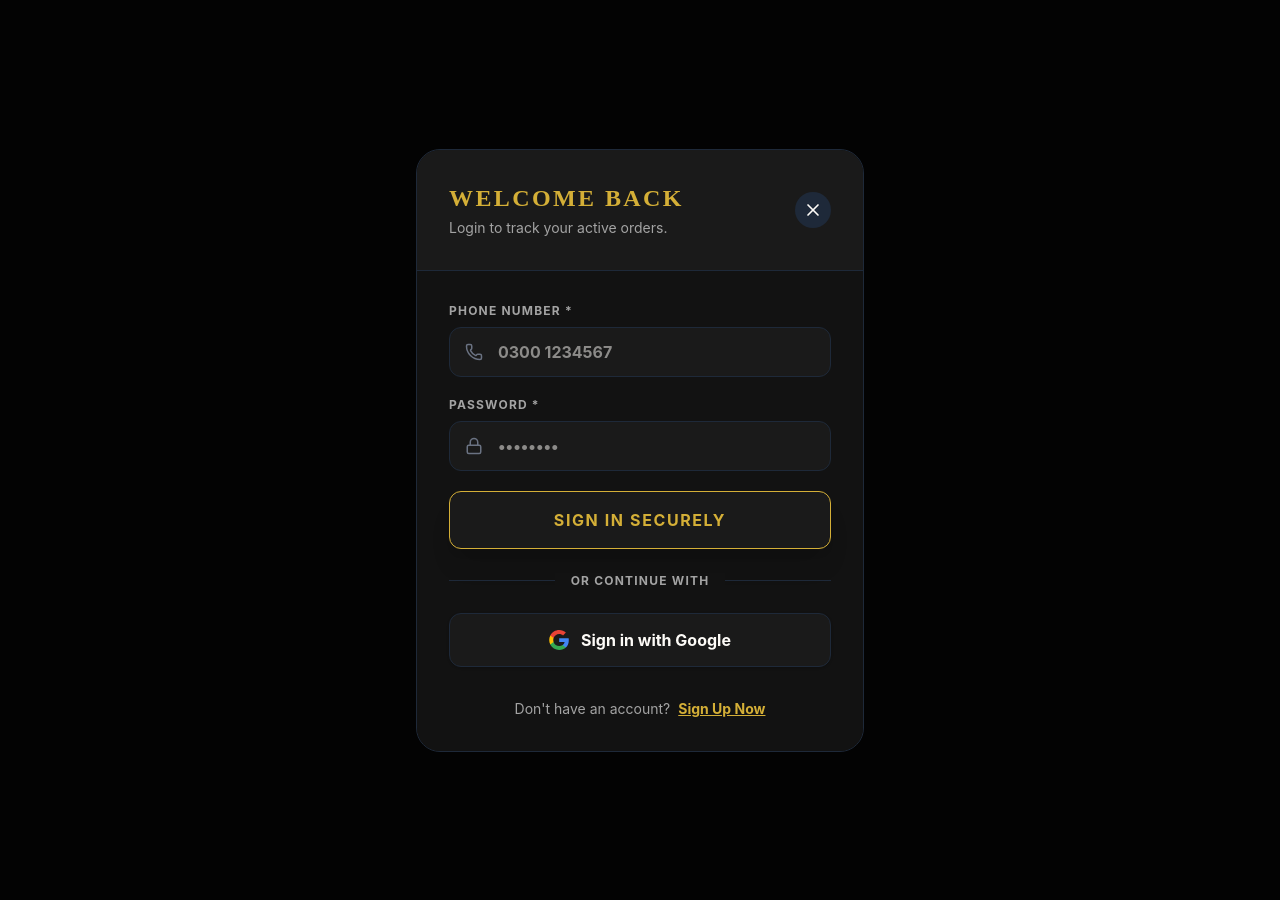
Test: AuthModal Component › switches between Login and Register modes
Expected: the heading "Welcome Back" is shown, [449,182,684,214]
# Click the toggle button
Click the button "Sign Up Now". click: (722, 708)
box: [678,698,766,718]
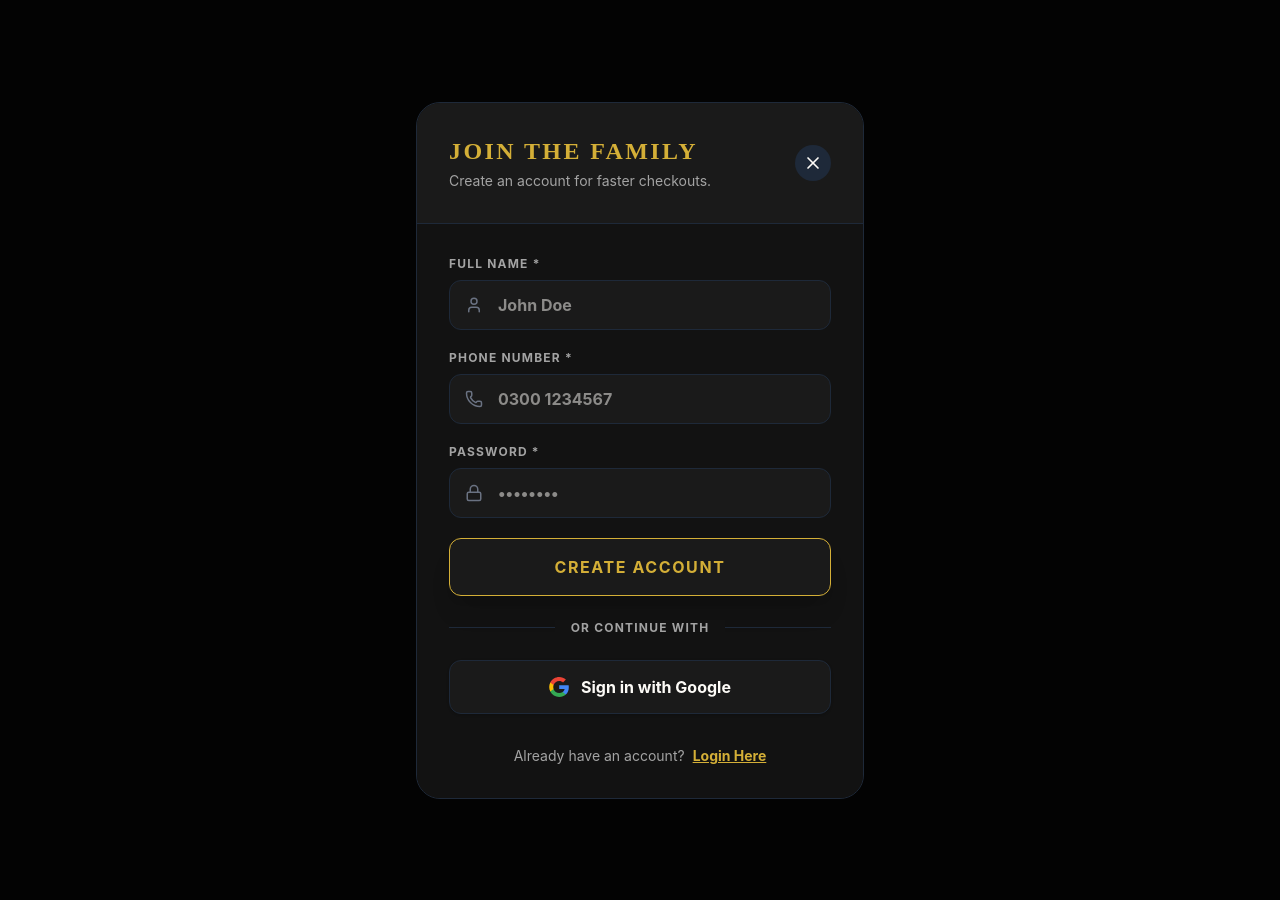
Expected: the heading "Join the Family" is shown, [449,134,711,166]
Expected: the field with placeholder "John Doe" is shown, [449,280,831,330]
